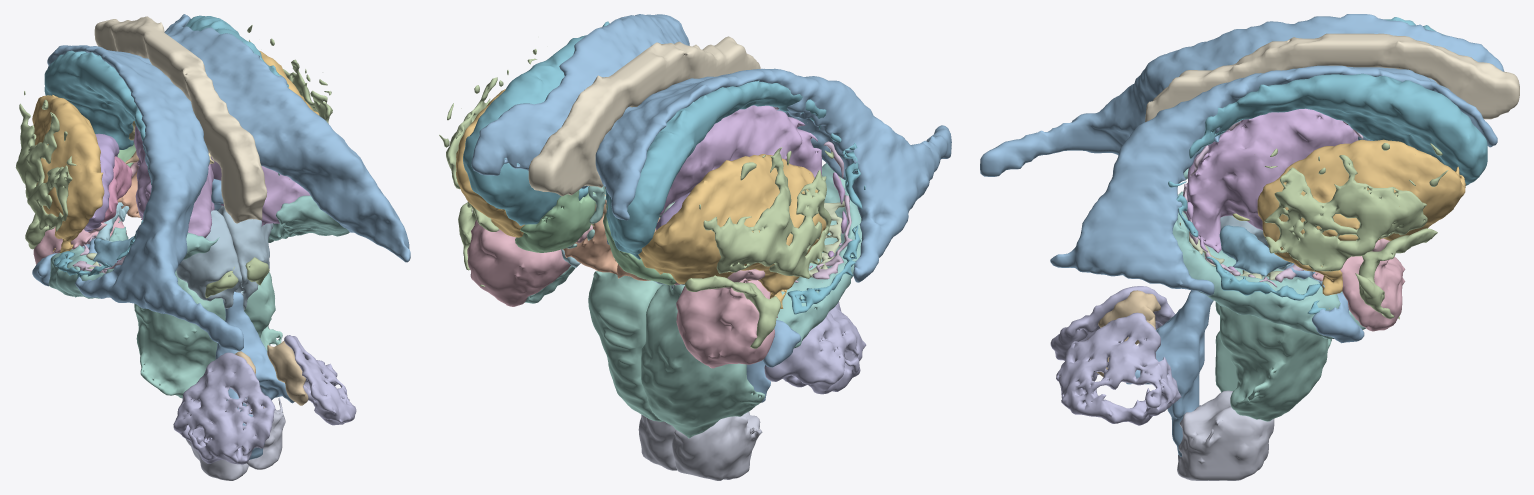
File: learning.glb
3 renders of one model, left to right at view 1: azimuth 30°, elevation 25°; view 2: azimuth 150°, elevation 25°; view 3: azimuth 270°, elevation 25°, orthographic. The views are drawn at different scales.
Visible parts, largest first — view 1: learning:ventricles-left, learning:ventricles-right, learning:corpus-callosum, learning:left:dentate, learning:left:caudate, learning:left:putamen, learning:left:pons, learning:left:claustrum, learning:left:midbrain, learning:right:dentate, learning:fourth-ventricle, learning:right:hippocampus (+18 smaller); view 2: learning:ventricles-left, learning:corpus-callosum, learning:left:putamen, learning:left:caudate, learning:ventricles-right, learning:left:claustrum, learning:left:pons, learning:left:thalamus, learning:right:caudate, learning:right:pons, learning:left:amygdala, learning:right:amygdala (+13 smaller); view 3: learning:ventricles-right, learning:right:caudate, learning:ventricles-left, learning:right:claustrum, learning:corpus-callosum, learning:right:thalamus, learning:right:putamen, learning:right:dentate, learning:right:pons, learning:right:medulla, learning:right:hippocampus, learning:fourth-ventricle (+6 smaller).
Boxes of the visible parts, x1,y1,x2,y2 form: learning:ventricles-left: (32,45,243,351); learning:ventricles-right: (164,14,410,262); learning:corpus-callosum: (94,16,267,223); learning:left:dentate: (173,352,275,464); learning:left:caudate: (44,50,151,278); learning:left:putamen: (32,94,104,253); learning:left:pons: (134,271,225,398); learning:left:claustrum: (15,91,76,249); learning:left:midbrain: (176,210,242,308); learning:right:dentate: (284,335,356,425); learning:fourth-ventricle: (215,291,294,459); learning:right:hippocampus: (268,173,349,242); learning:ventricles-left: (595,68,951,367); learning:corpus-callosum: (528,36,760,196); learning:left:putamen: (638,154,826,308); learning:left:caudate: (605,80,865,314); learning:ventricles-right: (471,14,689,188); learning:left:claustrum: (685,147,833,348); learning:left:pons: (641,284,764,438); learning:left:thalamus: (659,105,847,268); learning:right:caudate: (463,21,609,225); learning:right:pons: (588,271,663,421); learning:left:amygdala: (676,278,781,368); learning:right:amygdala: (467,219,570,306); learning:ventricles-right: (1050,65,1497,343); learning:right:caudate: (1168,73,1487,314); learning:ventricles-left: (980,14,1504,176); learning:right:claustrum: (1264,139,1448,319); learning:corpus-callosum: (1145,33,1519,121); learning:right:thalamus: (1183,108,1358,274); learning:right:putamen: (1257,139,1465,308); learning:right:dentate: (1056,312,1181,425); learning:right:pons: (1220,269,1331,421); learning:right:medulla: (1177,390,1274,480); learning:right:hippocampus: (1172,191,1365,338); learning:fourth-ventricle: (1126,290,1213,456).
Bounding box in the file's own units: 0.0703 × 0.0898 × 0.1011.
